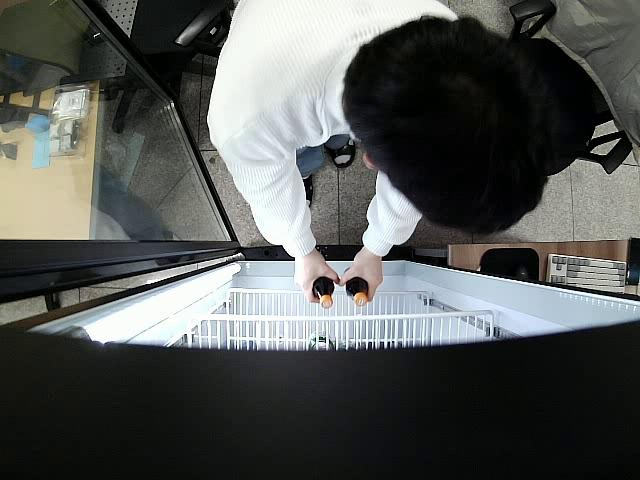00_hand: (339, 253, 382, 302), (293, 261, 339, 301)
17_vita500: (344, 268, 370, 307), (313, 277, 335, 310)
